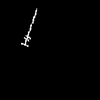treble_crochet: (21, 10, 36, 46)
